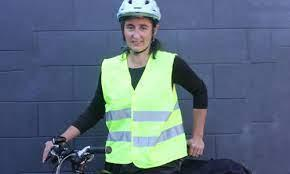Vest: (99, 53, 184, 156)
